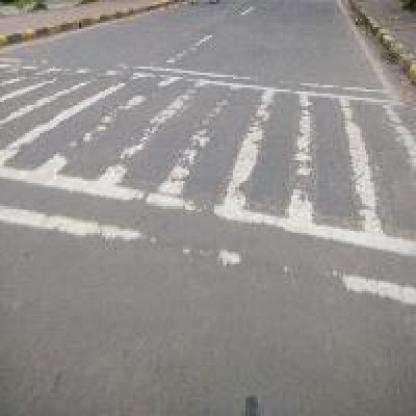Speed Bump: (0, 52, 414, 310)
